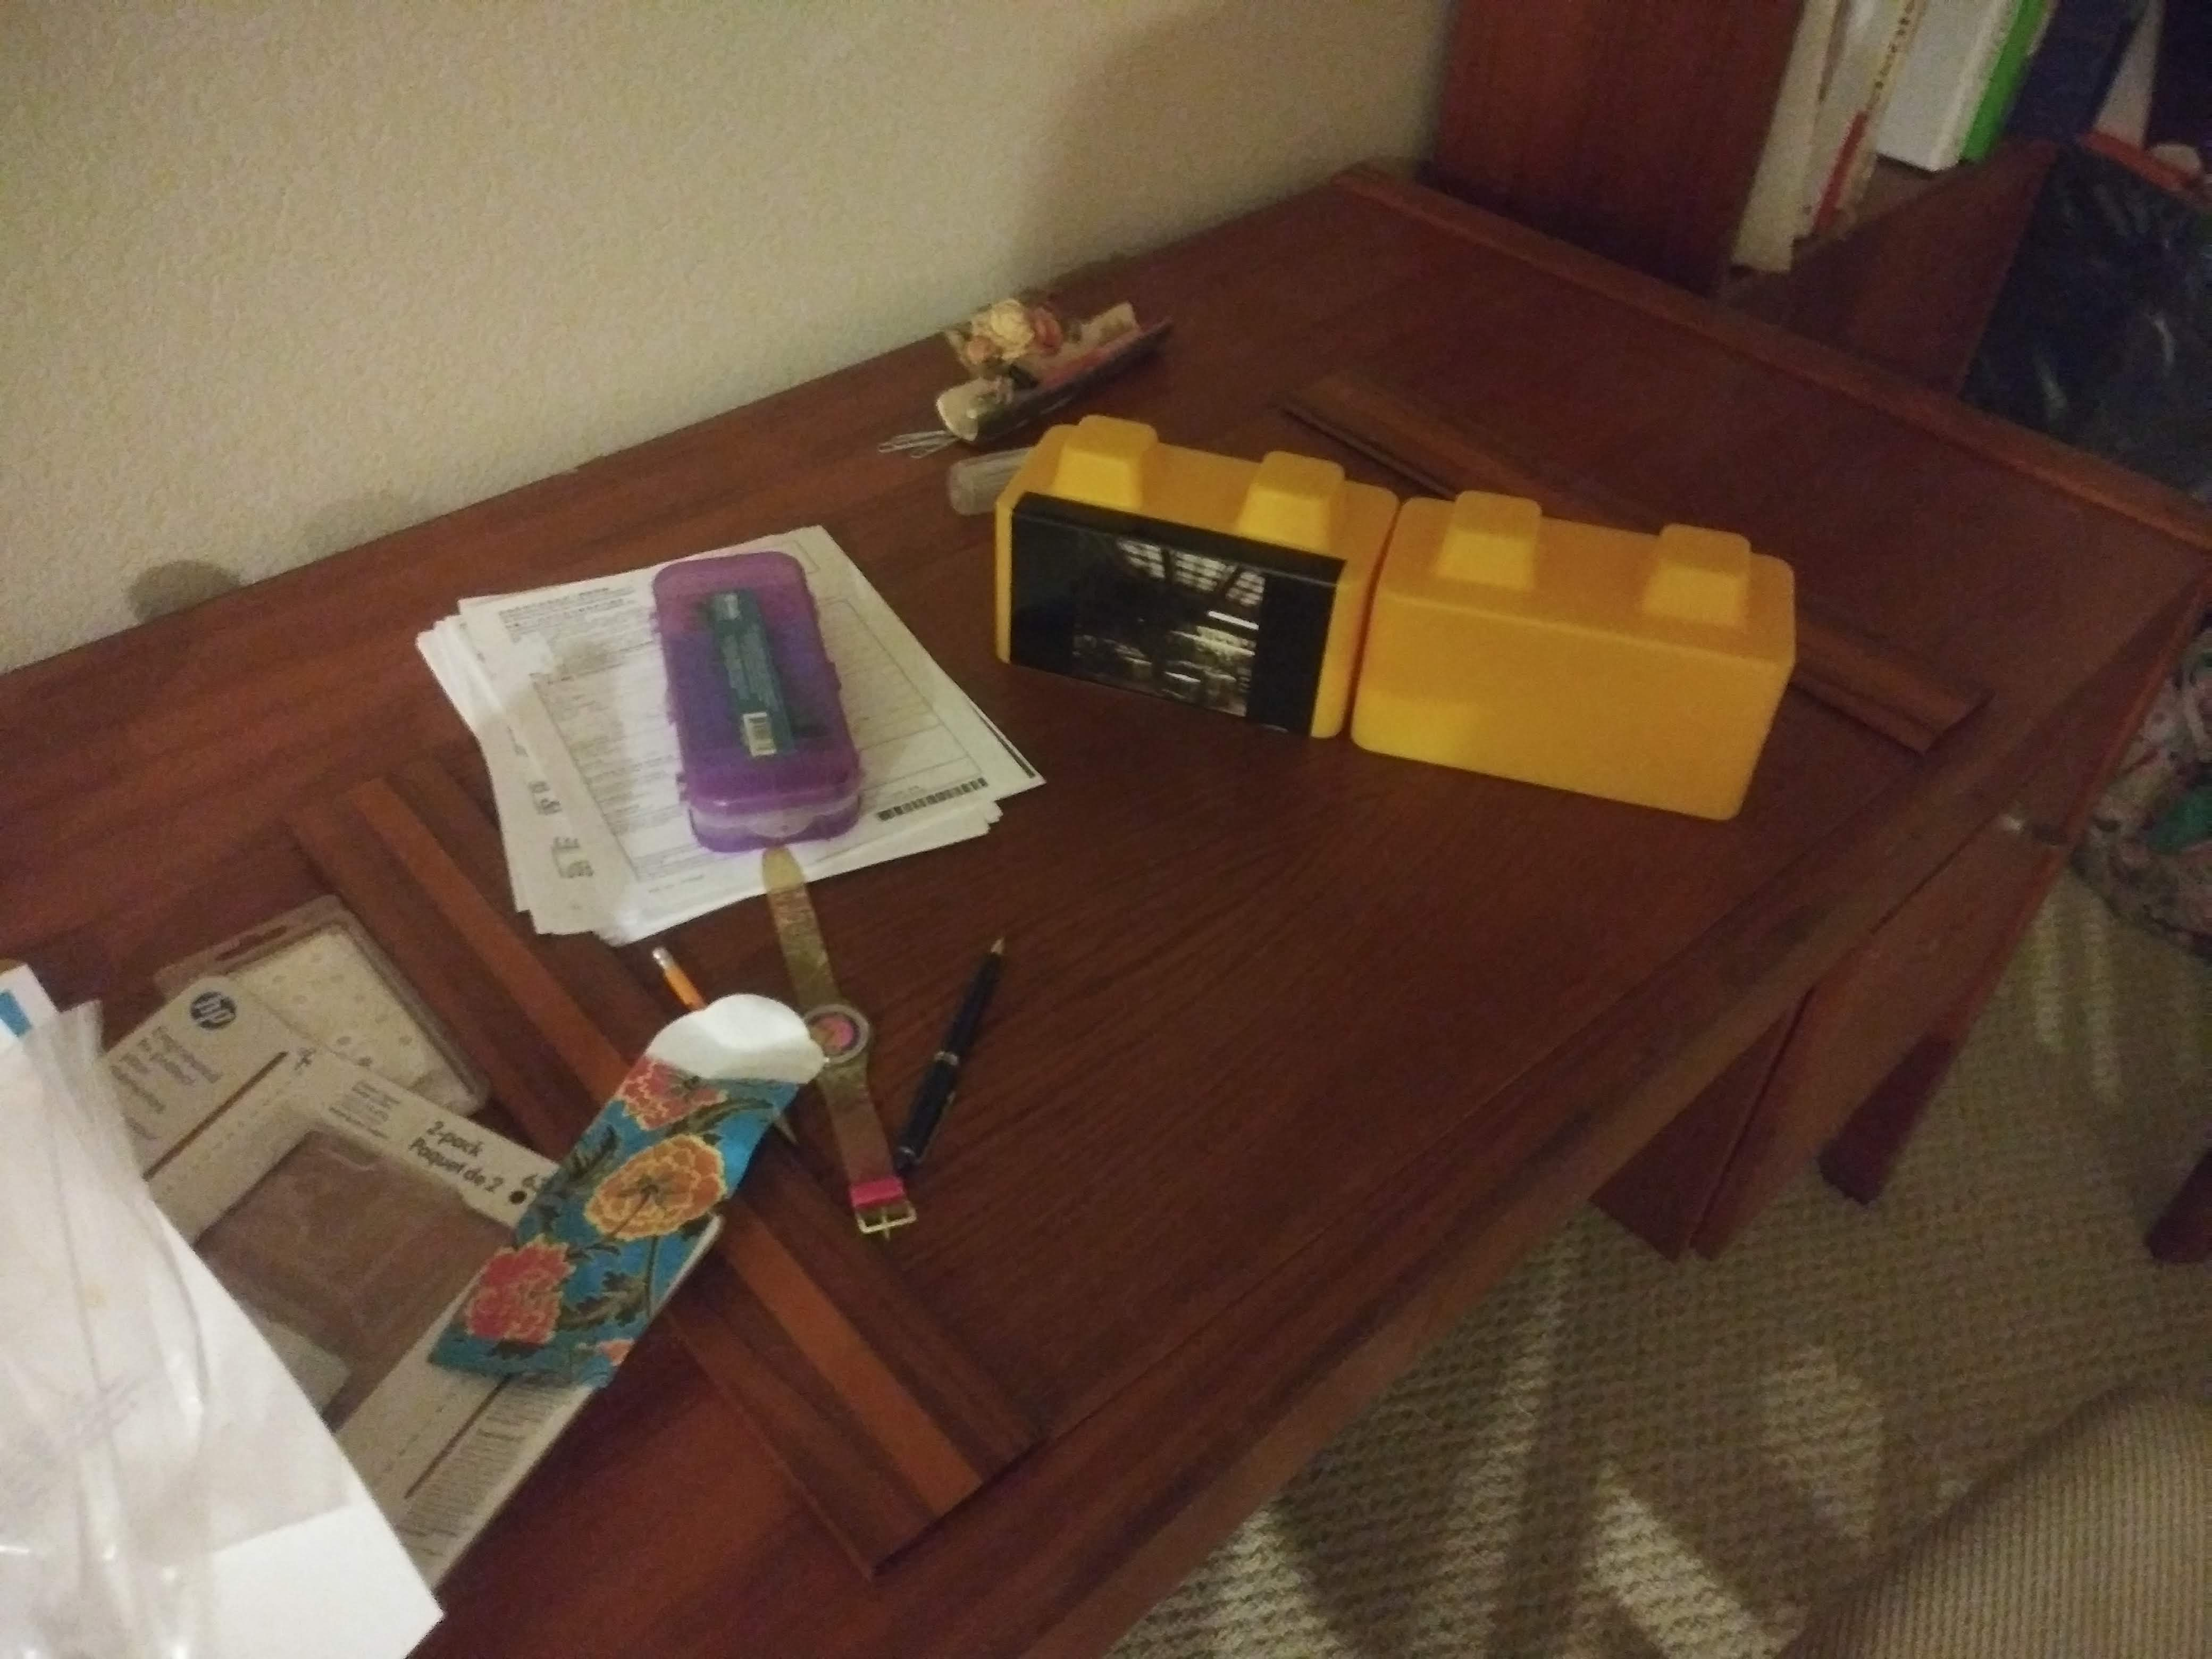skystone: (1001, 441, 1339, 730)
stone: (1385, 504, 1771, 802)
